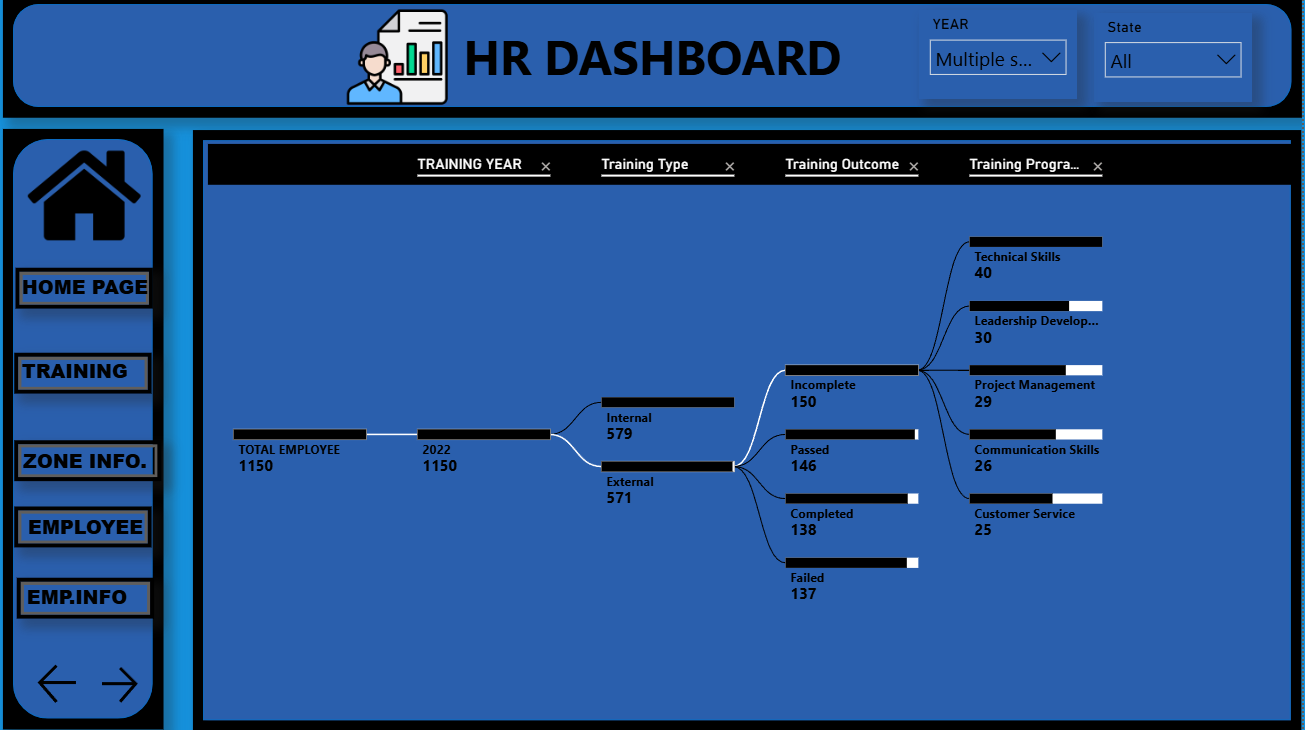

Layout of this report page (visuals, bound fields, positions):
{"tool":"powerbi","page":{"name":"TRAINING ","canvas":[1280,720],"ordinal":1},"visuals":[{"type":"shape","box":[9.3,0,1270.7,120.8],"z":0},{"type":"shape","box":[9.8,132.1,156.5,587],"z":1000},{"type":"shape","box":[195.9,132.7,1084.1,587.3],"z":2000},{"type":"decompositionTreeVisual","fields":{"Analyze":["Count(HR DATA.Employee ID)"],"ExplainBy":["HR DATA.TRAINING YEAR","HR DATA.Training Type","HR DATA.Training Outcome","HR DATA.Training Program Name"]},"box":[205.1,141.6,1074.9,578.4],"z":3000},{"type":"image","box":[315.8,8.5,160,104.8],"z":4000},{"type":"image","box":[21.4,141.4,134.3,110],"z":5000},{"type":"actionButton","box":[100,652.9,55.7,45.7],"z":6000},{"type":"actionButton","box":[38.6,650,50,48.6],"z":7000},{"type":"actionButton","title":"TRAINING","box":[20.8,351,134.5,40.4],"z":8000},{"type":"actionButton","title":"TRAINING","box":[22,267.8,134.5,40.4],"z":9000},{"type":"actionButton","title":"TRAINING","box":[20.8,501.4,134.5,40.4],"z":10000},{"type":"actionButton","title":"TRAINING","box":[23.2,571.1,134.5,40.4],"z":11000},{"type":"textbox","title":"HOME PAGE","box":[23.2,272.7,134.5,28.1],"z":12000},{"type":"textbox","title":"TRAINING","box":[23.2,354.6,113.7,30.6],"z":13000},{"type":"textbox","title":"EMPLOYEE","box":[29.3,507.5,124.7,28.1],"z":14000},{"type":"textbox","title":"EMP.INFO","box":[28.1,576,121.1,31.8],"z":15000},{"type":"actionButton","title":"TRAINING","box":[20.8,436.6,144.3,40.4],"z":16000},{"type":"textbox","title":"ZONE INFO.","box":[24.5,442.7,134.5,28.1],"z":17000},{"type":"slicer","fields":{"Values":["HR DATA.TRAINING YEAR"]},"box":[905.7,15.7,154.3,87.1],"z":18000},{"type":"slicer","fields":{"Values":["HR DATA.State"]},"box":[1077.1,18.6,154.3,87.1],"z":19000}]}

Visuals, with their boxes in screenshot pixels (x1, y1, x2, y2), scaled from the page's 1280x720 canvas onto the 1305x730 screenshot:
shape: rect(9, 0, 1304, 122)
shape: rect(10, 134, 170, 729)
shape: rect(200, 135, 1304, 729)
decompositionTreeVisual - Count(HR DATA.Employee ID) x HR DATA.TRAINING YEAR: rect(209, 144, 1304, 729)
image: rect(322, 9, 485, 115)
image: rect(22, 143, 159, 255)
actionButton: rect(102, 662, 159, 708)
actionButton: rect(39, 659, 90, 708)
"TRAINING" actionButton: rect(21, 356, 158, 397)
"TRAINING" actionButton: rect(22, 272, 160, 312)
"TRAINING" actionButton: rect(21, 508, 158, 549)
"TRAINING" actionButton: rect(24, 579, 161, 620)
"HOME PAGE" textbox: rect(24, 276, 161, 305)
"TRAINING" textbox: rect(24, 360, 140, 391)
"EMPLOYEE" textbox: rect(30, 515, 157, 543)
"EMP.INFO" textbox: rect(29, 584, 152, 616)
"TRAINING" actionButton: rect(21, 443, 168, 484)
"ZONE INFO." textbox: rect(25, 449, 162, 477)
slicer - HR DATA.TRAINING YEAR: rect(923, 16, 1081, 104)
slicer - HR DATA.State: rect(1098, 19, 1255, 107)
